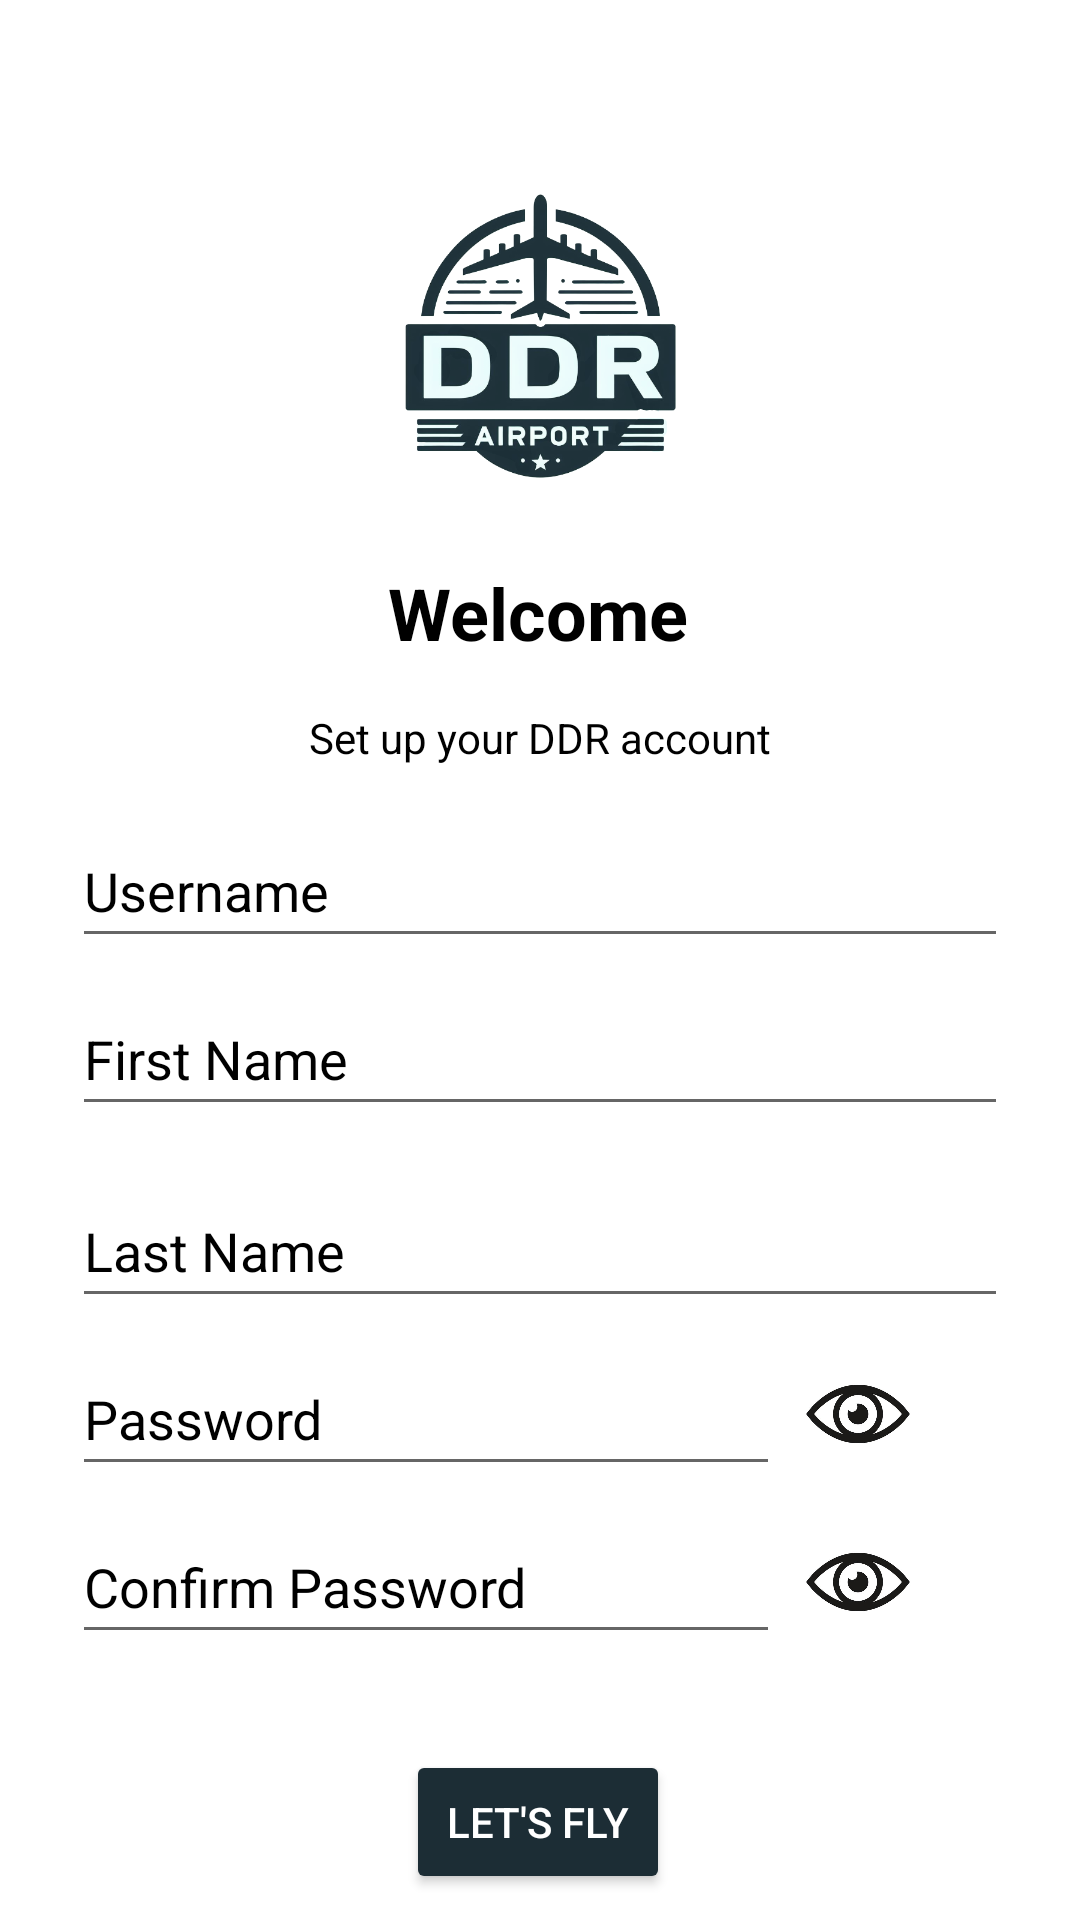

Locate icon controls on the screen. Image size 1080 × 1920, boxes as (x1, y1, x2, y2).
ojo: (806, 1385, 910, 1443), (806, 1553, 910, 1611)
